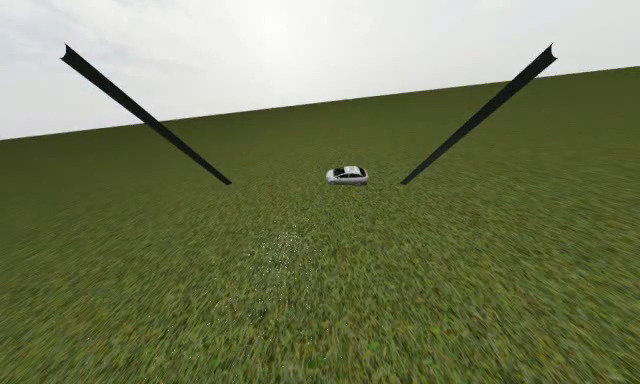Car: (325, 165, 370, 187)
